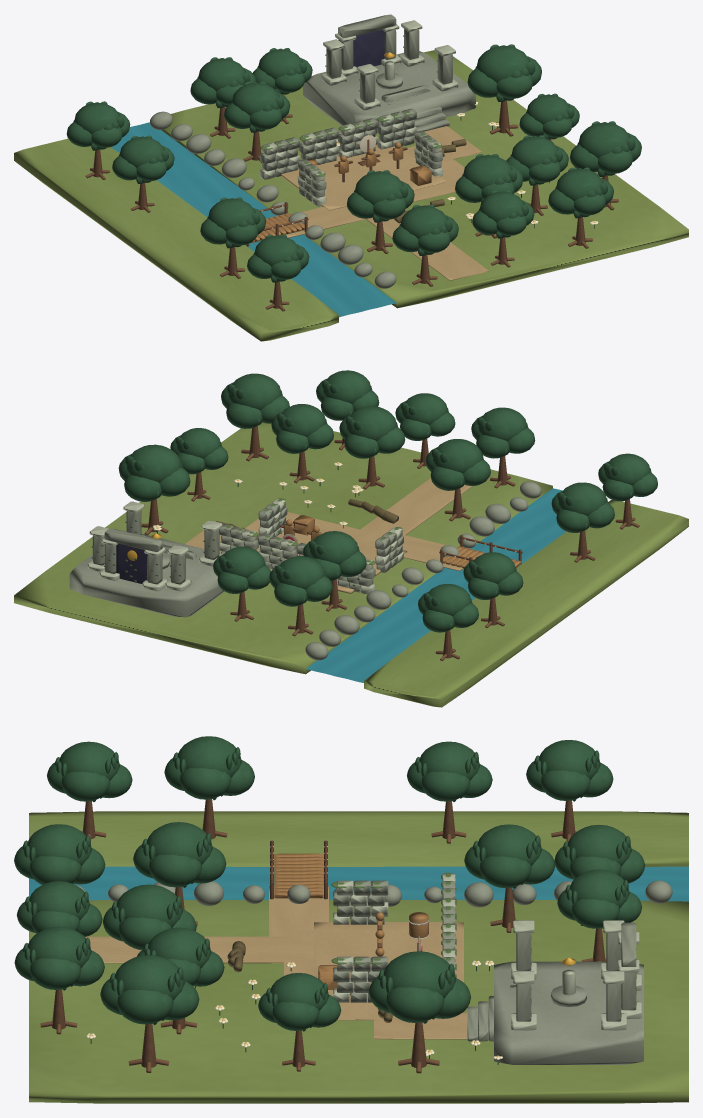
Rendered from verdant_corrupted.glb.
3 renders of one model, top to bottom at view 1: azimuth 30°, elevation 25°; view 2: azimuth 150°, elevation 25°; view 3: azimuth 270°, elevation 25°, orthographic. The views are drawn at different scales.
Parts seen in each view (by area): view 1: verdant_corrupted_StaticBatch; view 2: verdant_corrupted_StaticBatch; view 3: verdant_corrupted_StaticBatch.
Part boxes in pixels (bbox=[...]): verdant_corrupted_StaticBatch: bbox=[14, 14, 688, 341]; verdant_corrupted_StaticBatch: bbox=[14, 370, 688, 707]; verdant_corrupted_StaticBatch: bbox=[14, 736, 688, 1103].
Bounding box in the file's own units: 22 × 4.51 × 22.5.
Materials: 1 (1 with a texture image).
